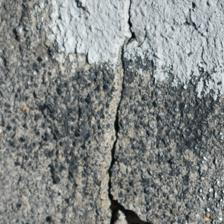Crack: (101, 4, 145, 218)
